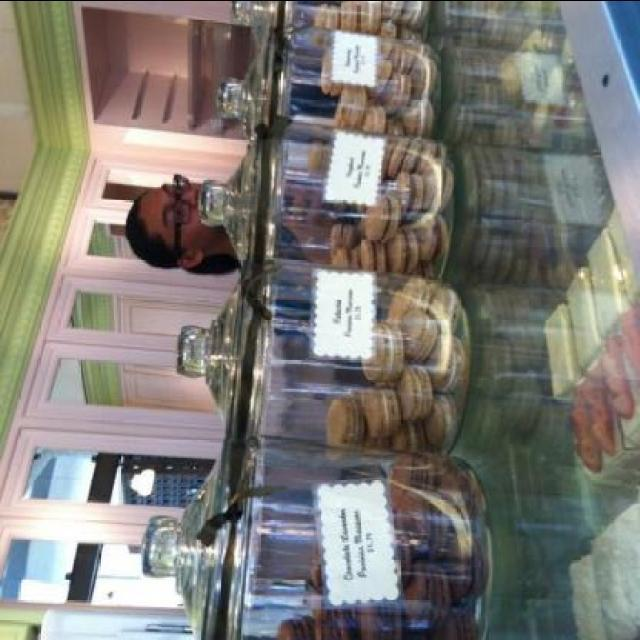Macaron: (273, 1, 469, 636)
